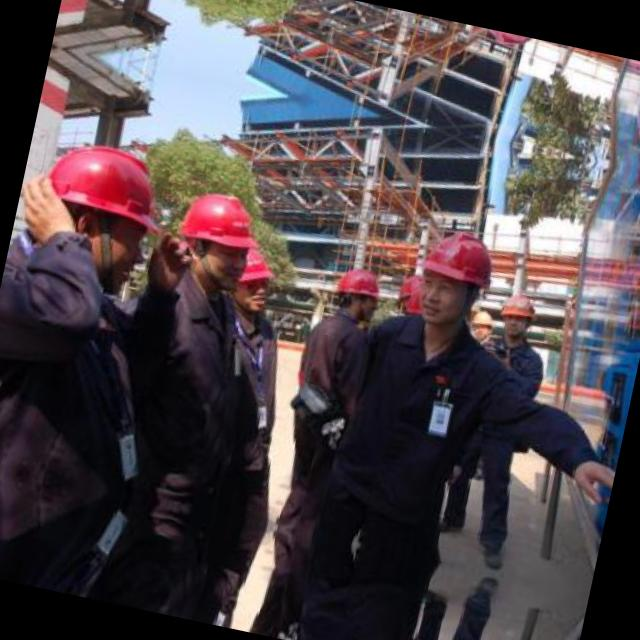helmet: (24, 128, 170, 301), (164, 182, 266, 290), (409, 224, 502, 340), (326, 258, 385, 328), (226, 247, 280, 317), (495, 293, 536, 345), (466, 306, 498, 349)
